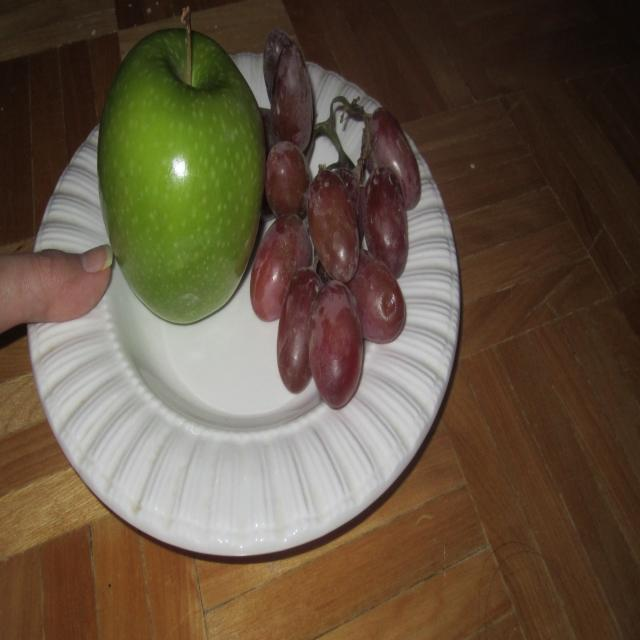Apple: (100, 6, 264, 322)
Finger: (29, 238, 117, 332)
Grapes: (261, 18, 429, 413)
